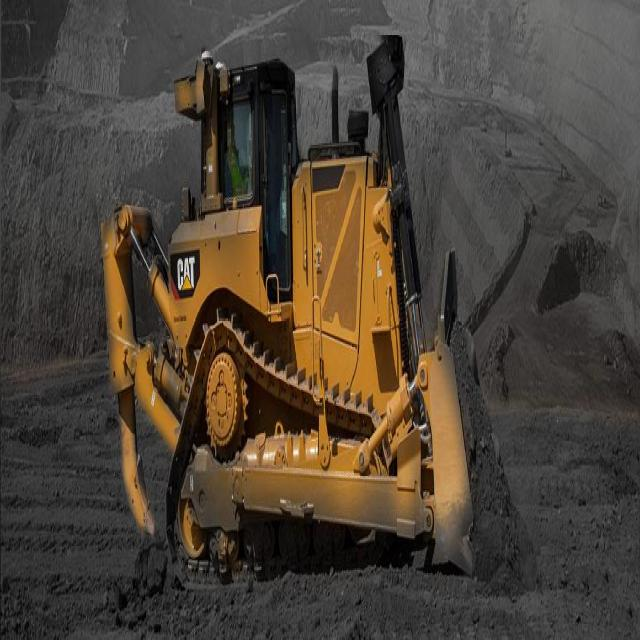Bulldozer: (87, 15, 481, 588)
